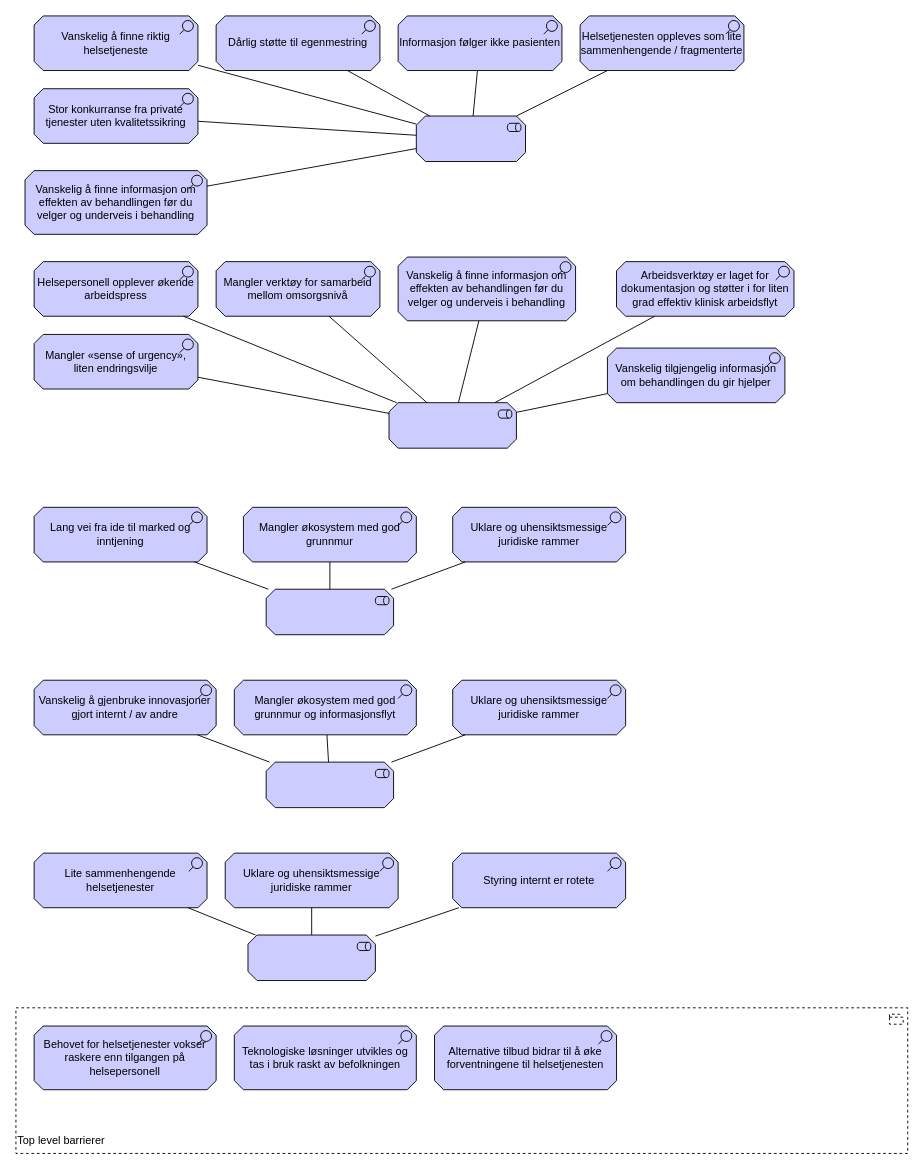
Some shapes in this 924 by 1174 pixel diagram are drawn without their labels. The shapes that lost their labels are listed below. From the top down, each one's centre as x and y in pixels, then its label:
(470,138): Innbygger
(452,425): Helsepersonell
(329,611): Leverandører
(329,784): Virksomheter
(311,957): Helsedirektoratet
